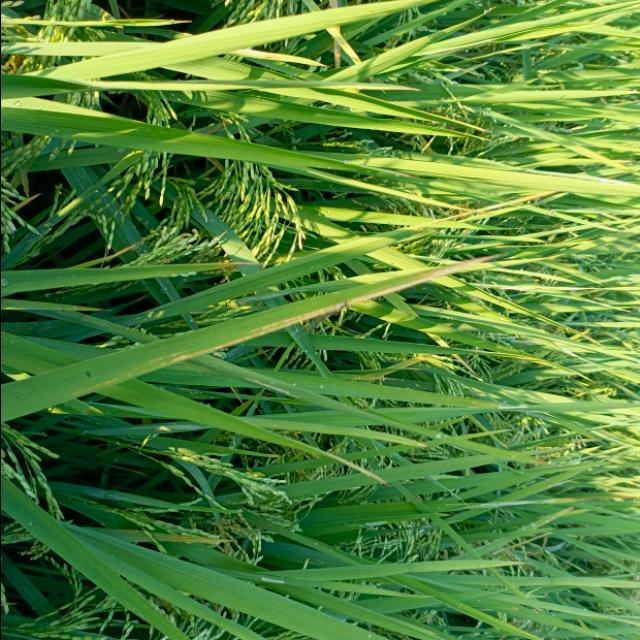Hawar Daun Bakteri: (391, 250, 506, 296)
brown spot: (80, 366, 92, 381)
